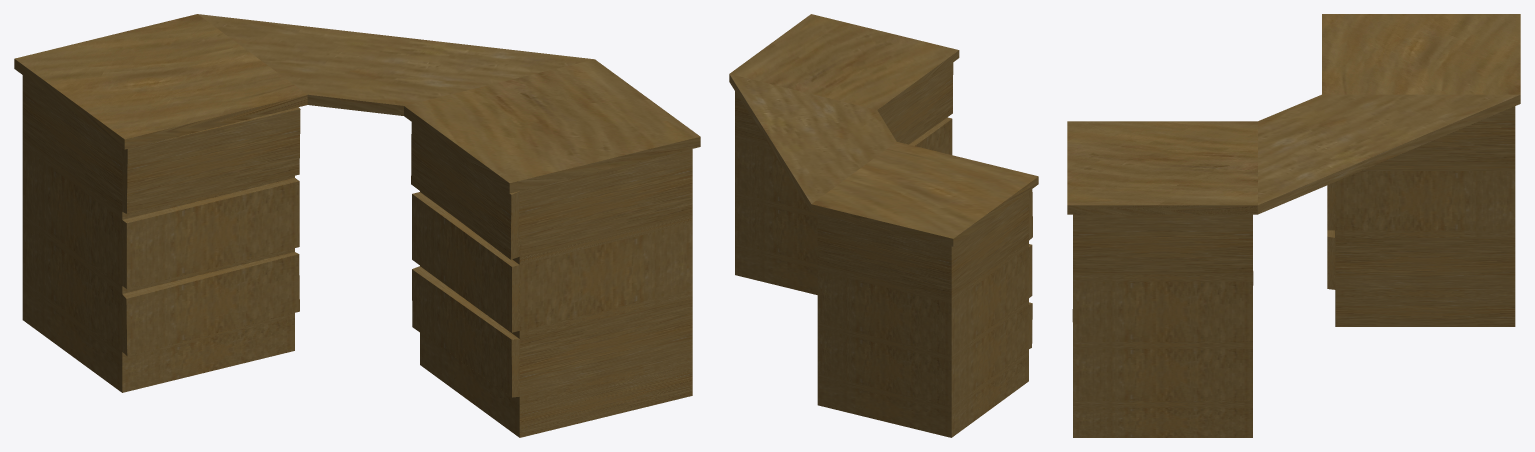
The model's file is Cabinet4.fbx.
The picture shows the model from 3 angles, left to right: view 1: azimuth 30°, elevation 25°; view 2: azimuth 150°, elevation 25°; view 3: azimuth 270°, elevation 25°; orthographic projection. The views are drawn at different scales.
Parts seen in each view (by area): view 1: Cabinet4; view 2: Cabinet4; view 3: Cabinet4.
Part boxes in pixels (x1=…): Cabinet4: x1=14, y1=14, x2=700, y2=437; Cabinet4: x1=729, y1=14, x2=1038, y2=437; Cabinet4: x1=1067, y1=14, x2=1520, y2=437.
Size of the model in its own units: 552 by 316 by 553.
